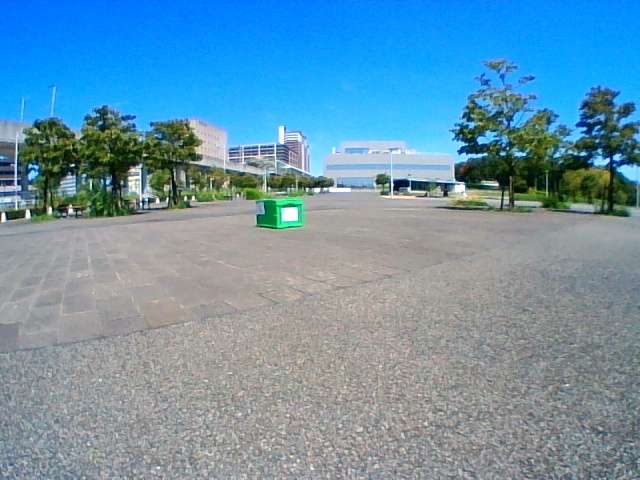green_box: (256, 199, 303, 228)
tag: (258, 202, 264, 213)
